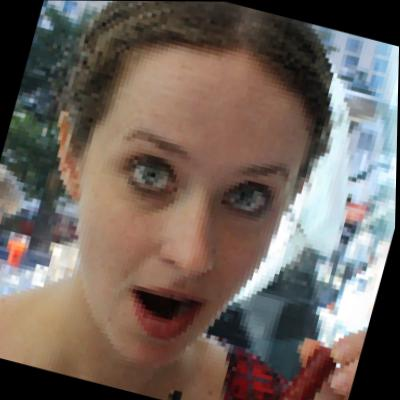surprise: (32, 24, 318, 380)
